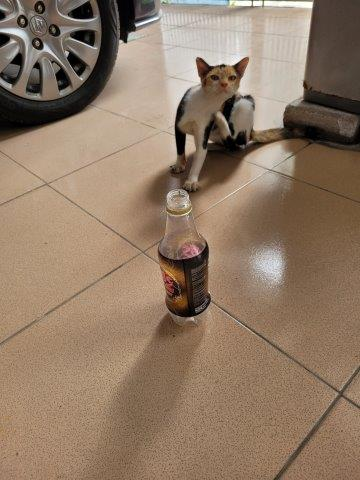botolplastik: (157, 190, 212, 325)
